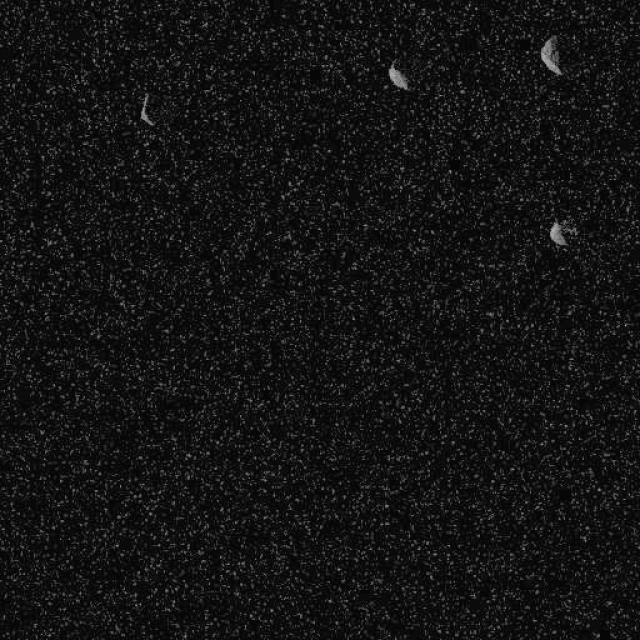D2: (538, 34, 562, 75), (386, 62, 410, 92), (138, 92, 154, 126), (548, 220, 568, 246)
